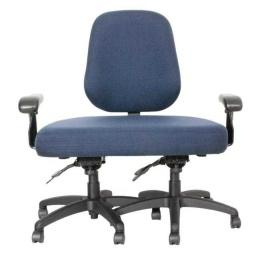Chair: (20, 10, 241, 243)
